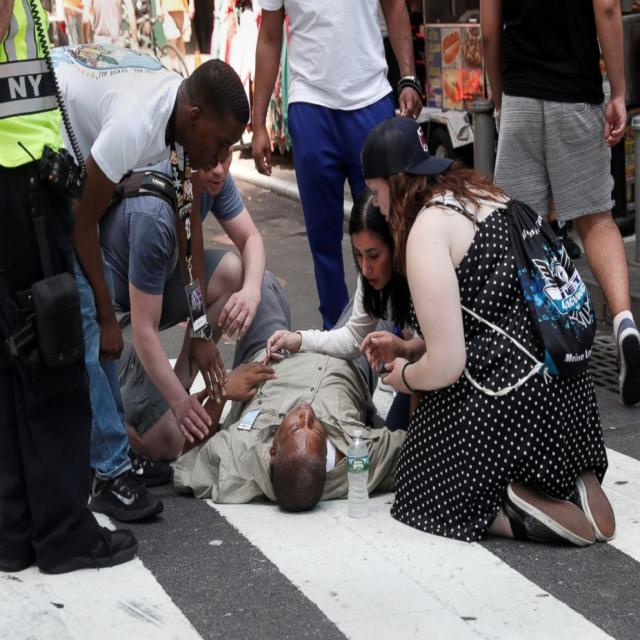body: (355, 112, 620, 550), (48, 41, 253, 528), (0, 0, 141, 579), (476, 0, 640, 413), (170, 265, 411, 515), (250, 0, 423, 332), (100, 141, 268, 464), (264, 185, 418, 434), (140, 0, 300, 152), (544, 215, 580, 260), (426, 89, 446, 111)
